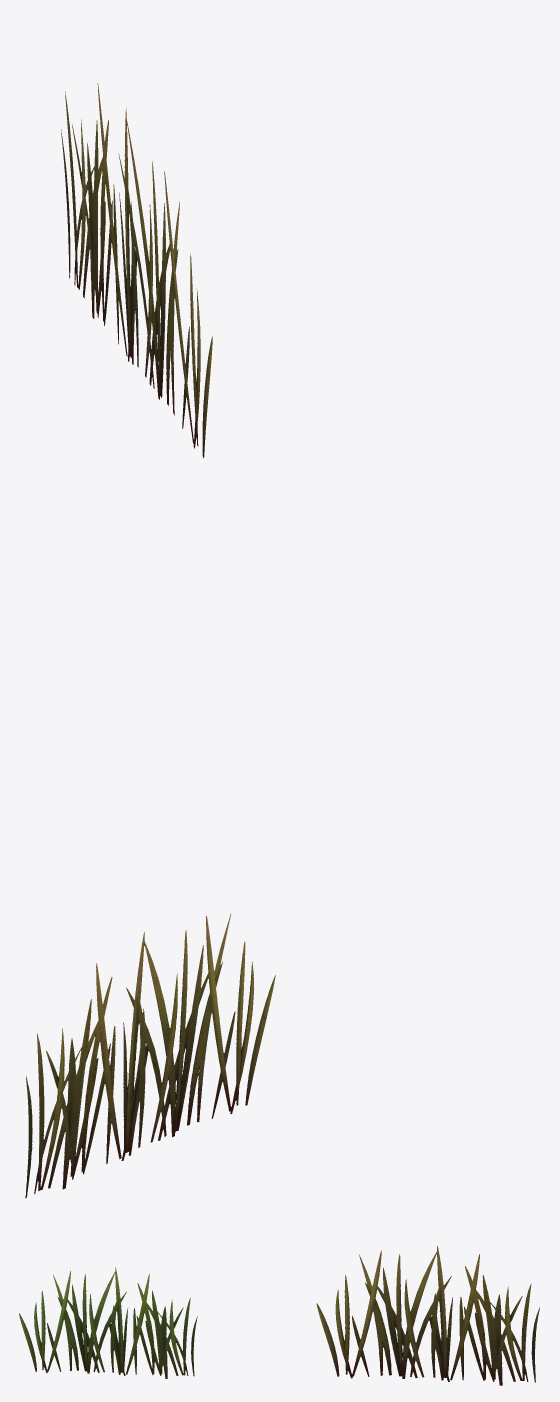
File: grass_lowploy_billboard.glb
The picture shows the model from 3 angles, top to bottom: view 1: azimuth 30°, elevation 25°; view 2: azimuth 150°, elevation 25°; view 3: azimuth 270°, elevation 25°; orthographic projection. The views are drawn at different scales.
Parts seen in each view (by area): view 1: mid-material; view 2: mid-material; view 3: mid-material, green-material.
Boxes of the visible parts, x1,y1,x2,y2 form: mid-material: (61,83,212,458); mid-material: (25,913,275,1198); mid-material: (316,1246,539,1385); green-material: (19,1267,197,1378).
Size of the model in its own units: 0.2378 by 0.6861 by 2.27.
2 materials, 2 textured.
